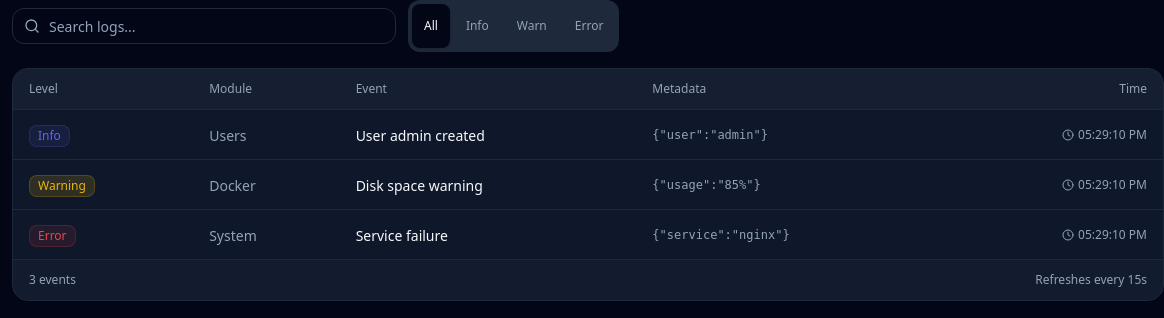
Test: LogsPage › filters logs by search query
The image size is (1164, 318).
In the field labelled "Search logs": (204, 26) [12, 8, 396, 44], type "admin"
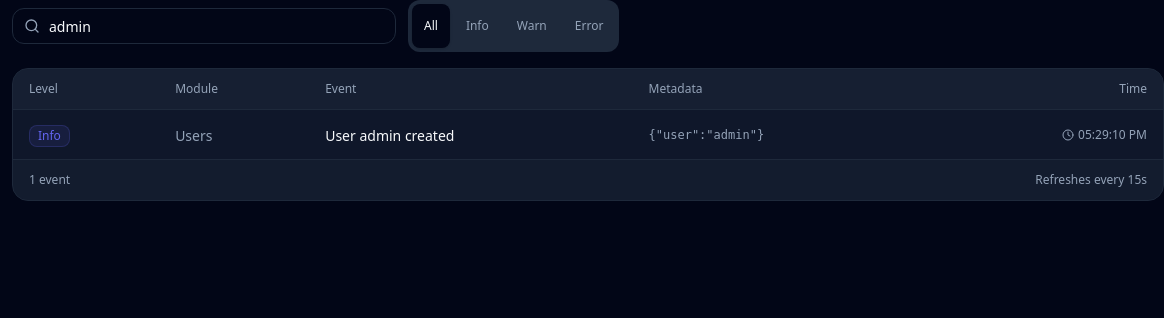
Now the text "Disk space warning" is gone
Now the text "Service failure" is gone
